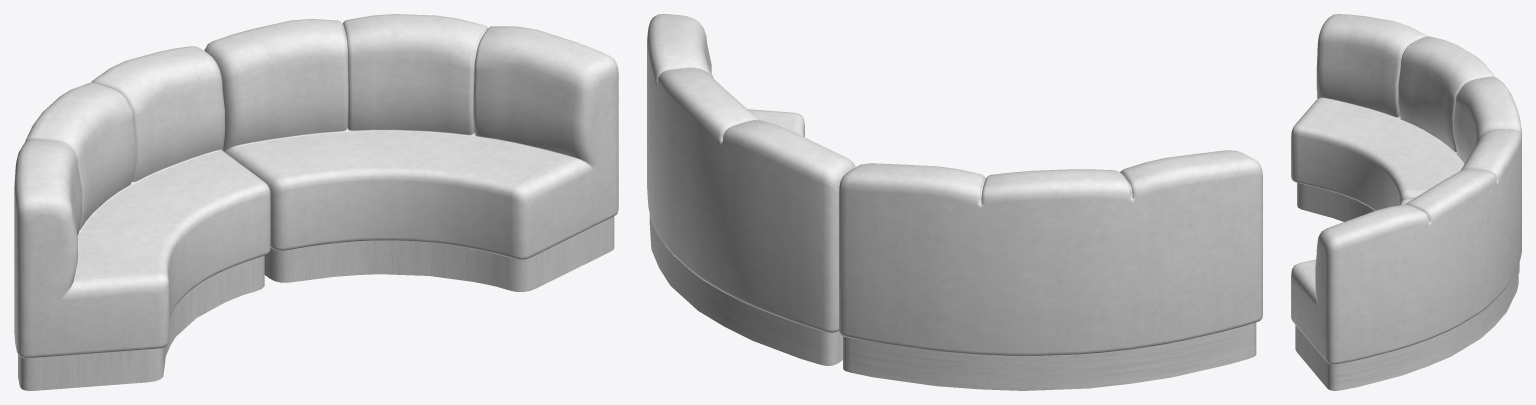
The model's file is Sofa01_2.FBX.
The picture shows the model from 3 angles, left to right: view 1: azimuth 30°, elevation 25°; view 2: azimuth 150°, elevation 25°; view 3: azimuth 270°, elevation 25°; orthographic projection. The views are drawn at different scales.
Parts seen in each view (by area): view 1: Sofa01_2b, Sofa01_2a; view 2: Sofa01_2a, Sofa01_2b; view 3: Sofa01_2b, Sofa01_2a.
Boxes of the visible parts, x1=… form: Sofa01_2b: x1=204, y1=14, x2=618, y2=291; Sofa01_2a: x1=14, y1=46, x2=270, y2=390; Sofa01_2a: x1=839, y1=150, x2=1262, y2=390; Sofa01_2b: x1=647, y1=14, x2=855, y2=365; Sofa01_2b: x1=1291, y1=129, x2=1521, y2=390; Sofa01_2a: x1=1291, y1=14, x2=1521, y2=273.
Bounding box in the file's own units: 381 × 122 × 161.
